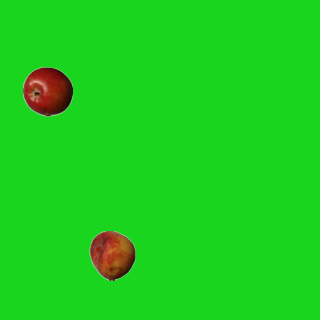Apple Braeburn: (22, 66, 72, 116)
Peach: (87, 230, 137, 280)
